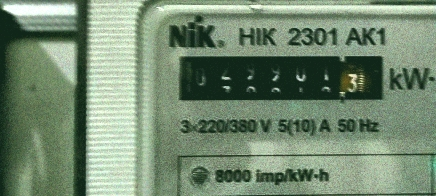0: (293, 58, 307, 83), (192, 65, 208, 86)
1: (318, 59, 331, 82)
2: (217, 62, 233, 81)
3: (345, 70, 358, 92)
9: (268, 60, 282, 82), (243, 60, 255, 82)
screen: (166, 45, 393, 109)
